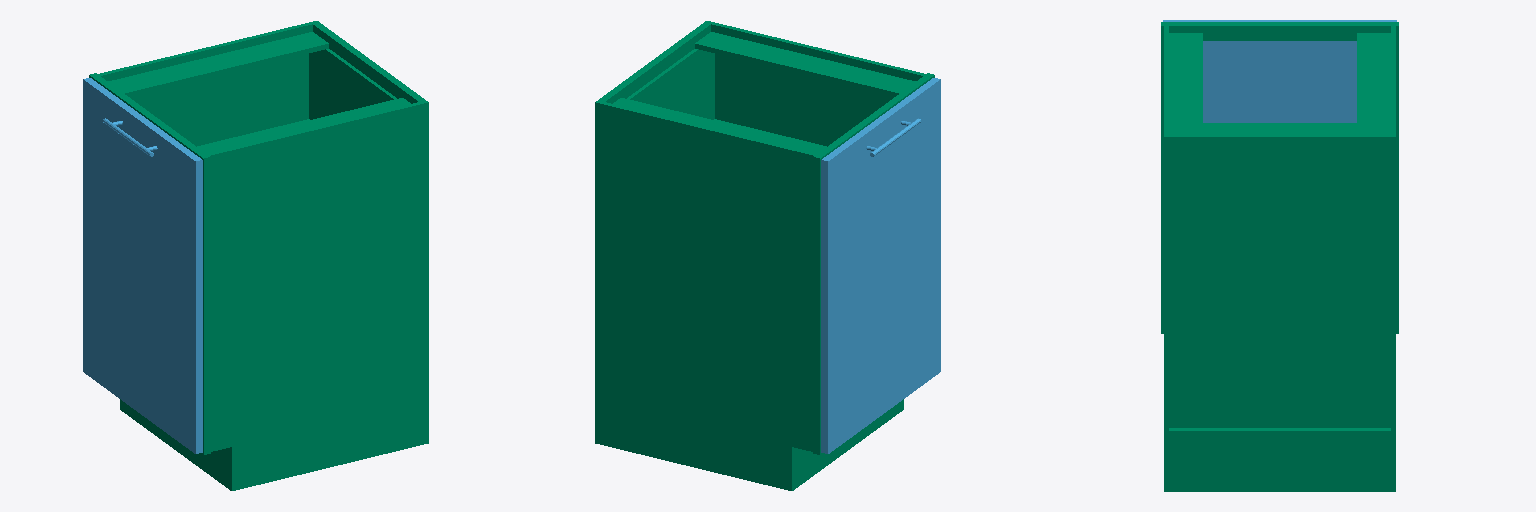
The robot description file, URDF, robot "partnet_24da7fd5e33513814da5feafe6f1c8fc":
<?xml version="1.0" ?>
<robot name="partnet_24da7fd5e33513814da5feafe6f1c8fc">
	<link name="base"/>
	<link name="link_0">
		<visual name="cabinet_door_surface-7">
			<origin xyz="-0.43732207168396603 -0.7316210269927979 -0.5255454783912991"/>
			<geometry>
				<mesh filename="textured_objs/original-28.obj"/>
			</geometry>
		</visual>
		<visual name="handle-8">
			<origin xyz="-0.43732207168396603 -0.7316210269927979 -0.5255454783912991"/>
			<geometry>
				<mesh filename="textured_objs/original-27.obj"/>
			</geometry>
		</visual>
		<visual name="handle-8">
			<origin xyz="-0.43732207168396603 -0.7316210269927979 -0.5255454783912991"/>
			<geometry>
				<mesh filename="textured_objs/original-25.obj"/>
			</geometry>
		</visual>
		<visual name="handle-8">
			<origin xyz="-0.43732207168396603 -0.7316210269927979 -0.5255454783912991"/>
			<geometry>
				<mesh filename="textured_objs/original-26.obj"/>
			</geometry>
		</visual>
		<collision>
			<origin xyz="-0.43732207168396603 -0.7316210269927979 -0.5255454783912991"/>
			<geometry>
				<mesh filename="textured_objs/original-28.obj"/>
			</geometry>
		</collision>
		<collision>
			<origin xyz="-0.43732207168396603 -0.7316210269927979 -0.5255454783912991"/>
			<geometry>
				<mesh filename="textured_objs/original-27.obj"/>
			</geometry>
		</collision>
		<collision>
			<origin xyz="-0.43732207168396603 -0.7316210269927979 -0.5255454783912991"/>
			<geometry>
				<mesh filename="textured_objs/original-25.obj"/>
			</geometry>
		</collision>
		<collision>
			<origin xyz="-0.43732207168396603 -0.7316210269927979 -0.5255454783912991"/>
			<geometry>
				<mesh filename="textured_objs/original-26.obj"/>
			</geometry>
		</collision>
	</link>
	<joint name="joint_0" type="revolute">
		<origin xyz="0.43732207168396603 0.7316210269927979 0.5255454783912991"/>
		<axis xyz="0 0.9999999999999999 0"/>
		<child link="link_0"/>
		<parent link="link_1"/>
		<limit lower="0.0" upper="1.5833626974092556"/>
	</joint>
	<link name="link_1">
		<visual name="shelf-10">
			<origin xyz="0 0 0"/>
			<geometry>
				<mesh filename="textured_objs/original-2.obj"/>
			</geometry>
		</visual>
		<visual name="shelf-11">
			<origin xyz="0 0 0"/>
			<geometry>
				<mesh filename="textured_objs/original-22.obj"/>
			</geometry>
		</visual>
		<visual name="frame_horizontal_bar-26">
			<origin xyz="0 0 0"/>
			<geometry>
				<mesh filename="textured_objs/original-21.obj"/>
			</geometry>
		</visual>
		<visual name="frame_horizontal_bar-27">
			<origin xyz="0 0 0"/>
			<geometry>
				<mesh filename="textured_objs/original-20.obj"/>
			</geometry>
		</visual>
		<visual name="frame_horizontal_bar-28">
			<origin xyz="0 0 0"/>
			<geometry>
				<mesh filename="textured_objs/original-9.obj"/>
			</geometry>
		</visual>
		<visual name="frame_horizontal_bar-29">
			<origin xyz="0 0 0"/>
			<geometry>
				<mesh filename="textured_objs/original-7.obj"/>
			</geometry>
		</visual>
		<visual name="vertical_side_panel-30">
			<origin xyz="0 0 0"/>
			<geometry>
				<mesh filename="textured_objs/original-16.obj"/>
			</geometry>
		</visual>
		<visual name="vertical_side_panel-30">
			<origin xyz="0 0 0"/>
			<geometry>
				<mesh filename="textured_objs/original-15.obj"/>
			</geometry>
		</visual>
		<visual name="vertical_side_panel-31">
			<origin xyz="0 0 0"/>
			<geometry>
				<mesh filename="textured_objs/original-12.obj"/>
			</geometry>
		</visual>
		<visual name="vertical_side_panel-31">
			<origin xyz="0 0 0"/>
			<geometry>
				<mesh filename="textured_objs/original-11.obj"/>
			</geometry>
		</visual>
		<visual name="back_panel-32">
			<origin xyz="0 0 0"/>
			<geometry>
				<mesh filename="textured_objs/original-6.obj"/>
			</geometry>
		</visual>
		<visual name="back_panel-32">
			<origin xyz="0 0 0"/>
			<geometry>
				<mesh filename="textured_objs/original-5.obj"/>
			</geometry>
		</visual>
		<visual name="bottom_panel-33">
			<origin xyz="0 0 0"/>
			<geometry>
				<mesh filename="textured_objs/original-3.obj"/>
			</geometry>
		</visual>
		<visual name="frame_vertical_bar-34">
			<origin xyz="0 0 0"/>
			<geometry>
				<mesh filename="textured_objs/original-4.obj"/>
			</geometry>
		</visual>
		<visual name="frame_vertical_bar-35">
			<origin xyz="0 0 0"/>
			<geometry>
				<mesh filename="textured_objs/original-8.obj"/>
			</geometry>
		</visual>
		<visual name="other_leaf-37">
			<origin xyz="0 0 0"/>
			<geometry>
				<mesh filename="textured_objs/original-29.obj"/>
			</geometry>
		</visual>
		<visual name="base_side_panel-15">
			<origin xyz="0 0 0"/>
			<geometry>
				<mesh filename="textured_objs/original-13.obj"/>
			</geometry>
		</visual>
		<visual name="base_side_panel-16">
			<origin xyz="0 0 0"/>
			<geometry>
				<mesh filename="textured_objs/original-18.obj"/>
			</geometry>
		</visual>
		<visual name="base_side_panel-17">
			<origin xyz="0 0 0"/>
			<geometry>
				<mesh filename="textured_objs/original-17.obj"/>
			</geometry>
		</visual>
		<visual name="base_side_panel-18">
			<origin xyz="0 0 0"/>
			<geometry>
				<mesh filename="textured_objs/original-19.obj"/>
			</geometry>
		</visual>
		<collision>
			<origin xyz="0 0 0"/>
			<geometry>
				<mesh filename="textured_objs/original-2.obj"/>
			</geometry>
		</collision>
		<collision>
			<origin xyz="0 0 0"/>
			<geometry>
				<mesh filename="textured_objs/original-22.obj"/>
			</geometry>
		</collision>
		<collision>
			<origin xyz="0 0 0"/>
			<geometry>
				<mesh filename="textured_objs/original-21.obj"/>
			</geometry>
		</collision>
		<collision>
			<origin xyz="0 0 0"/>
			<geometry>
				<mesh filename="textured_objs/original-20.obj"/>
			</geometry>
		</collision>
		<collision>
			<origin xyz="0 0 0"/>
			<geometry>
				<mesh filename="textured_objs/original-9.obj"/>
			</geometry>
		</collision>
		<collision>
			<origin xyz="0 0 0"/>
			<geometry>
				<mesh filename="textured_objs/original-7.obj"/>
			</geometry>
		</collision>
		<collision>
			<origin xyz="0 0 0"/>
			<geometry>
				<mesh filename="textured_objs/original-16.obj"/>
			</geometry>
		</collision>
		<collision>
			<origin xyz="0 0 0"/>
			<geometry>
				<mesh filename="textured_objs/original-15.obj"/>
			</geometry>
		</collision>
		<collision>
			<origin xyz="0 0 0"/>
			<geometry>
				<mesh filename="textured_objs/original-12.obj"/>
			</geometry>
		</collision>
		<collision>
			<origin xyz="0 0 0"/>
			<geometry>
				<mesh filename="textured_objs/original-11.obj"/>
			</geometry>
		</collision>
		<collision>
			<origin xyz="0 0 0"/>
			<geometry>
				<mesh filename="textured_objs/original-6.obj"/>
			</geometry>
		</collision>
		<collision>
			<origin xyz="0 0 0"/>
			<geometry>
				<mesh filename="textured_objs/original-5.obj"/>
			</geometry>
		</collision>
		<collision>
			<origin xyz="0 0 0"/>
			<geometry>
				<mesh filename="textured_objs/original-3.obj"/>
			</geometry>
		</collision>
		<collision>
			<origin xyz="0 0 0"/>
			<geometry>
				<mesh filename="textured_objs/original-4.obj"/>
			</geometry>
		</collision>
		<collision>
			<origin xyz="0 0 0"/>
			<geometry>
				<mesh filename="textured_objs/original-8.obj"/>
			</geometry>
		</collision>
		<collision>
			<origin xyz="0 0 0"/>
			<geometry>
				<mesh filename="textured_objs/original-29.obj"/>
			</geometry>
		</collision>
		<collision>
			<origin xyz="0 0 0"/>
			<geometry>
				<mesh filename="textured_objs/original-13.obj"/>
			</geometry>
		</collision>
		<collision>
			<origin xyz="0 0 0"/>
			<geometry>
				<mesh filename="textured_objs/original-18.obj"/>
			</geometry>
		</collision>
		<collision>
			<origin xyz="0 0 0"/>
			<geometry>
				<mesh filename="textured_objs/original-17.obj"/>
			</geometry>
		</collision>
		<collision>
			<origin xyz="0 0 0"/>
			<geometry>
				<mesh filename="textured_objs/original-19.obj"/>
			</geometry>
		</collision>
	</link>
	<joint name="joint_1" type="fixed">
		<origin rpy="1.570796326794897 0 -1.570796326794897" xyz="0 0 0"/>
		<child link="link_1"/>
		<parent link="base"/>
	</joint>
</robot>

--- Facts derived from the render (not from the file) ---
Views: 3 orthographic renders of the robot side by side, from view 1: azimuth 30°, elevation 25°; view 2: azimuth 150°, elevation 25°; view 3: azimuth 270°, elevation 25°.
Model partnet_24da7fd5e33513814da5feafe6f1c8fc with 3 links and 2 joints (1 revolute, 1 fixed), rooted at base, posed every joint at zero.
Visible links, largest first — view 1: link_1, link_0; view 2: link_1, link_0; view 3: link_1, link_0.
Link boxes in pixels (x1=…): link_1: x1=89, y1=21, x2=428, y2=490; link_0: x1=83, y1=78, x2=202, y2=453; link_1: x1=595, y1=21, x2=934, y2=490; link_0: x1=821, y1=78, x2=940, y2=453; link_1: x1=1161, y1=22, x2=1398, y2=491; link_0: x1=1163, y1=20, x2=1396, y2=122.
Bounding box of the posed robot: 1.13 × 0.9089 × 1.49 m (x, y, z).
24 mesh visuals loaded from 24 distinct referenced files (24 OBJ).
